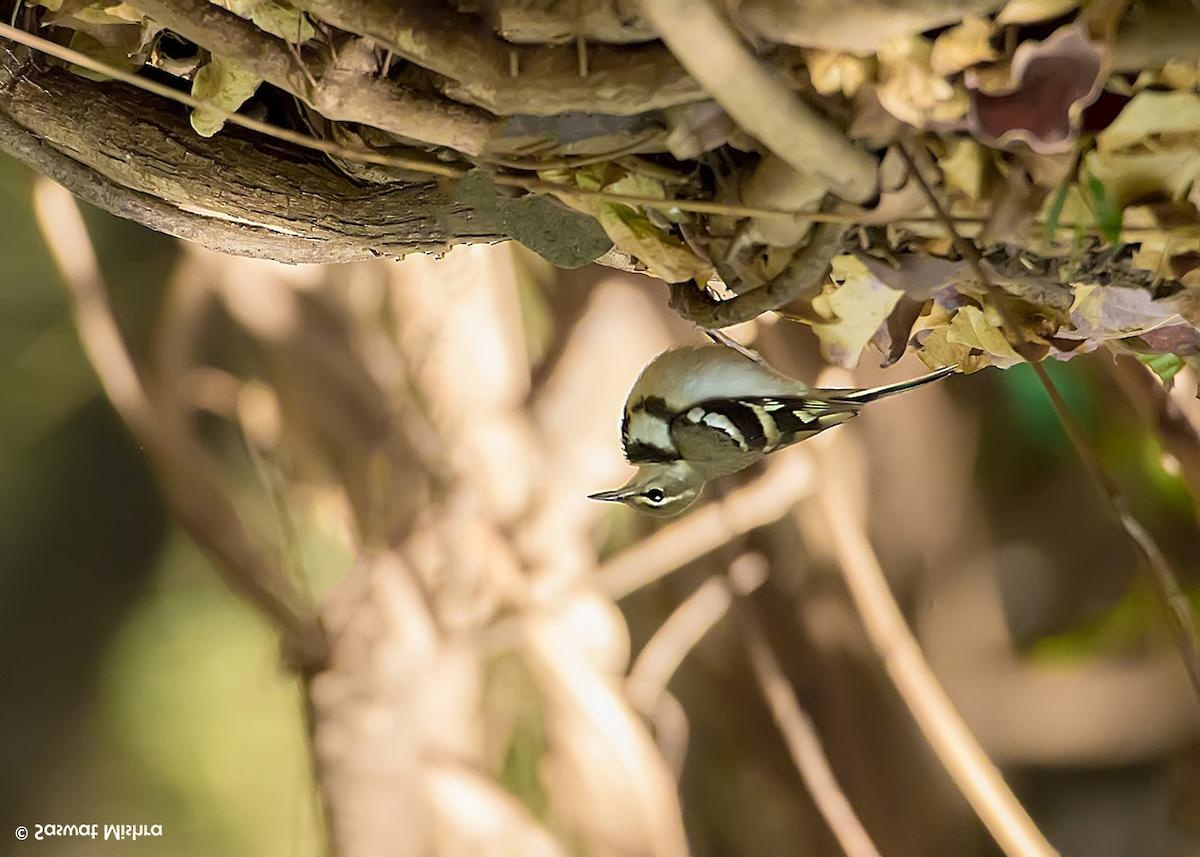wagtail: (563, 299, 984, 530)
